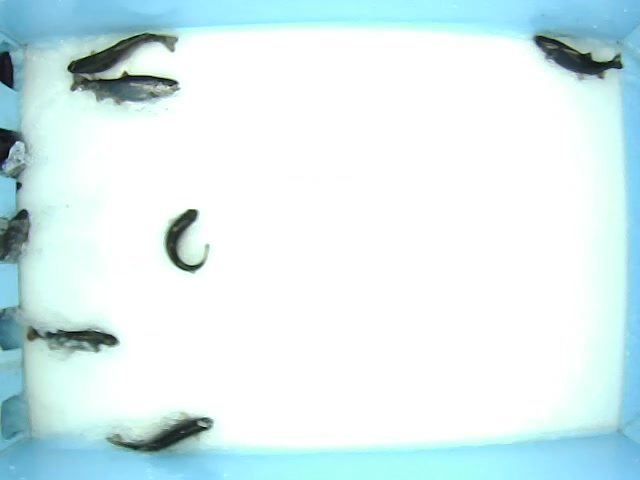fish: (66, 31, 179, 75), (533, 32, 623, 84), (104, 416, 217, 454), (70, 69, 180, 104), (164, 206, 211, 276), (23, 324, 118, 355)
